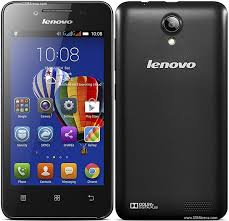lenovo: (114, 1, 229, 221), (1, 1, 114, 221)
